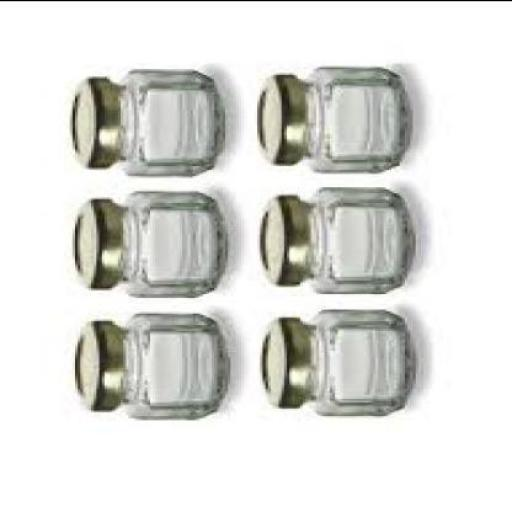glass: (115, 308, 226, 417), (302, 308, 414, 413), (302, 184, 414, 289), (303, 64, 410, 169), (115, 68, 222, 172), (120, 188, 222, 294)
metal: (70, 316, 126, 409), (64, 71, 118, 165), (255, 315, 311, 403), (255, 192, 303, 283), (257, 72, 305, 163), (72, 196, 120, 285)
